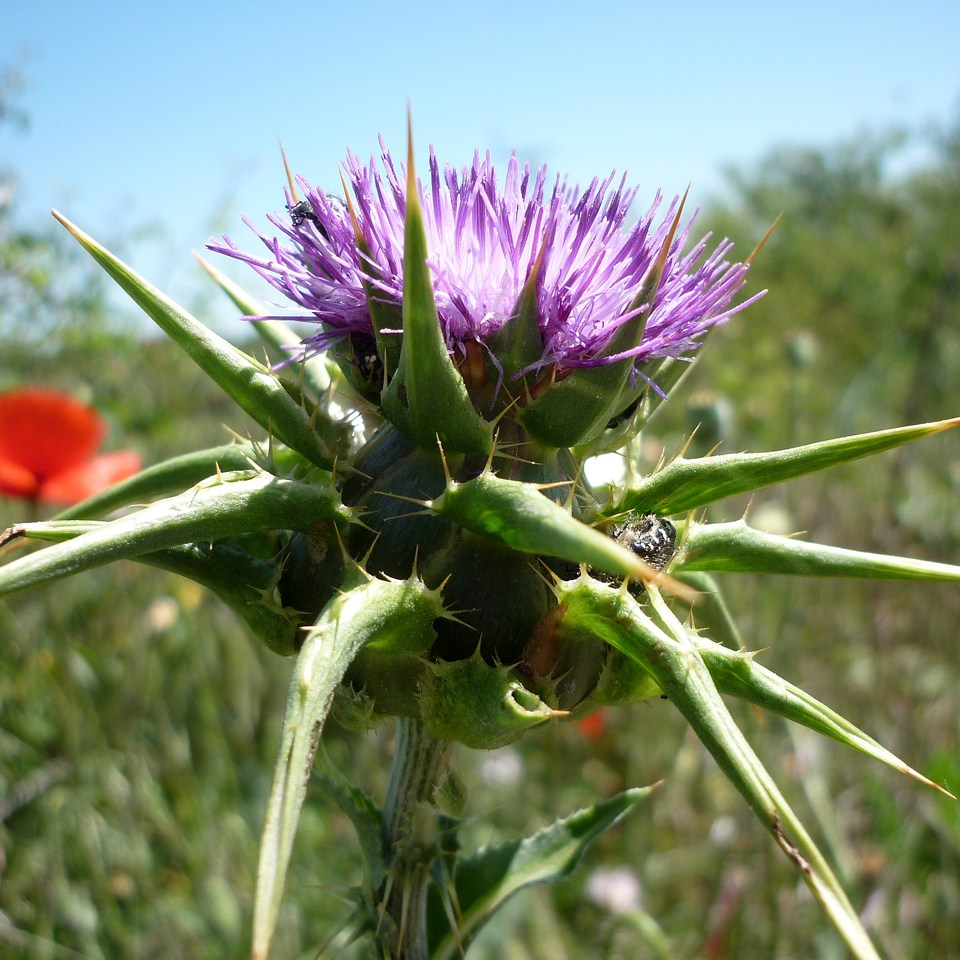thistle: (129, 141, 761, 794)
